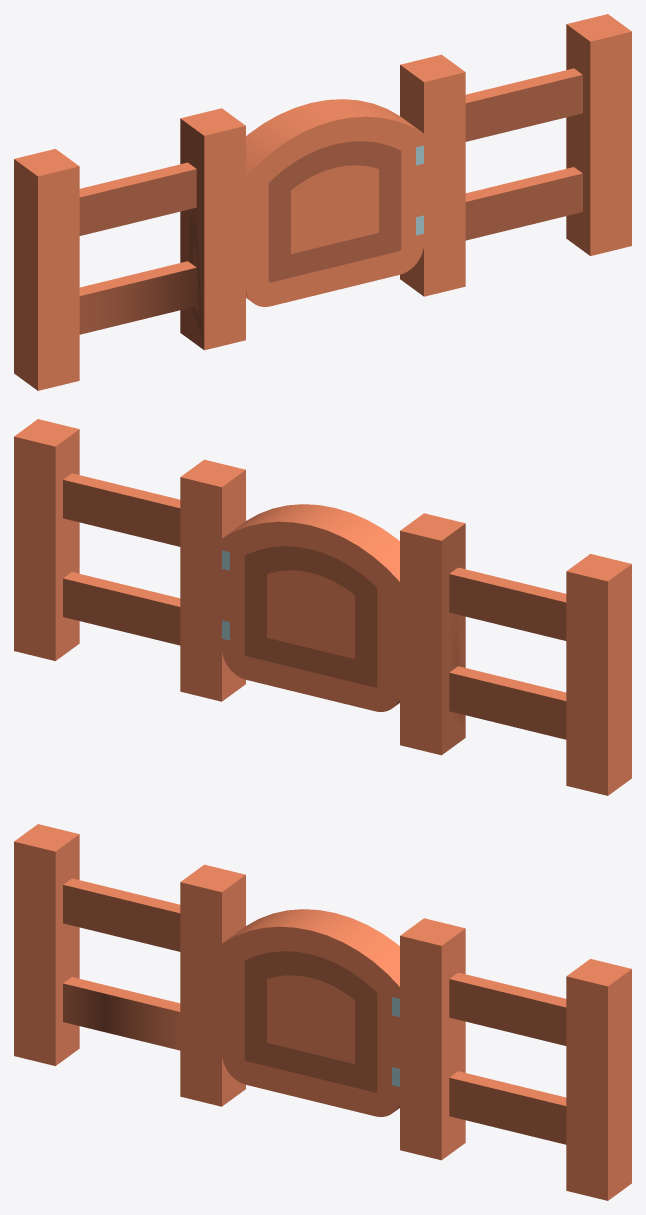
Rendered from fence_gate.fbx.
3 renders of one model, top to bottom at view 1: azimuth 30°, elevation 25°; view 2: azimuth 150°, elevation 25°; view 3: azimuth 330°, elevation 25°, orthographic.
Parts seen in each view (by area): view 1: fence_gate, gate; view 2: fence_gate, gate; view 3: fence_gate, gate.
Boxes of the visible parts, box(x1,y1,x2,y2) form: fence_gate: box(14, 14, 631, 390); gate: box(246, 99, 423, 306); fence_gate: box(14, 419, 631, 795); gate: box(222, 504, 399, 711); fence_gate: box(14, 824, 631, 1200); gate: box(222, 909, 399, 1116).
Bounding box in the file's own units: 10 × 3.45 × 0.7.
